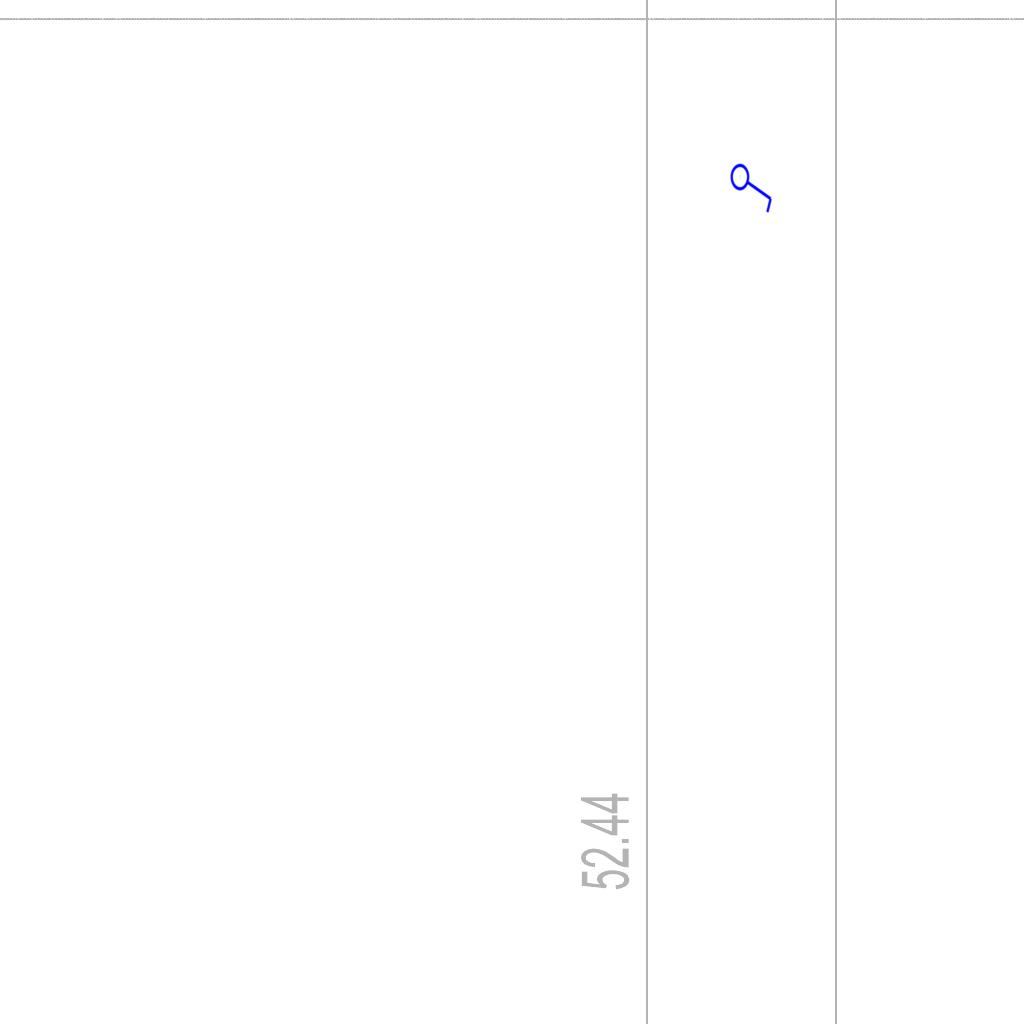Ausschalter: (729, 158, 777, 214)
